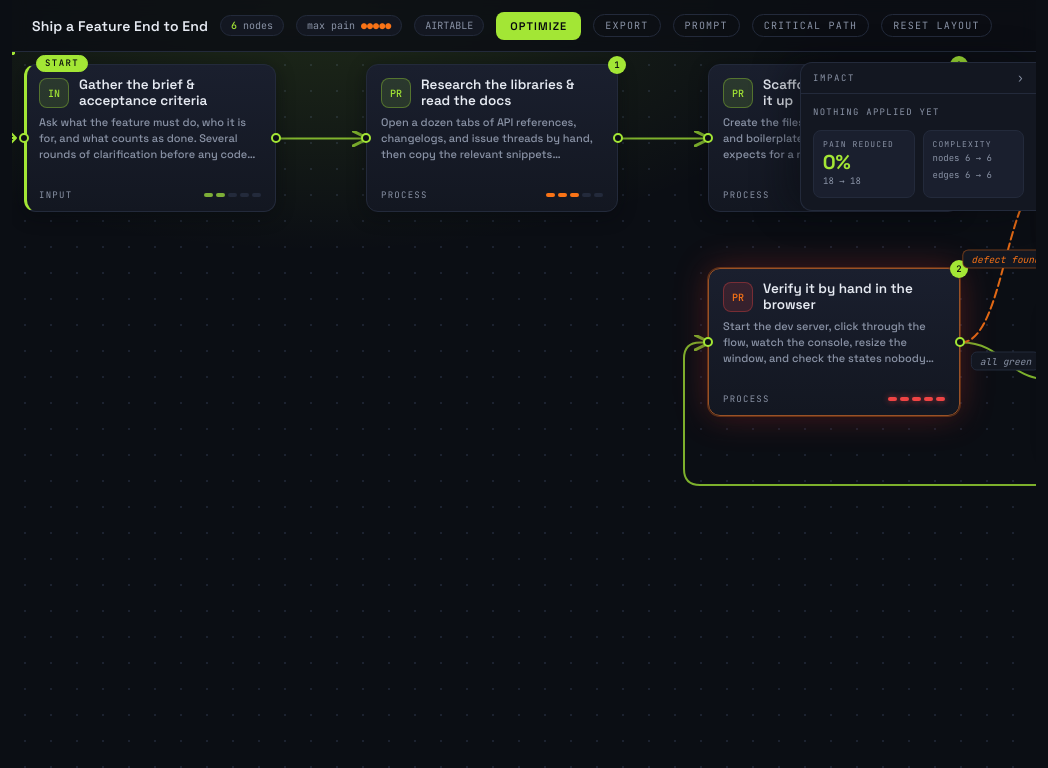
Scenario: drops the peek the moment the pointer leaves — no delay on the way out
This screenshot has width=1048, height=768.
Hover over the element with test id "sg-node" that starts with "Research the libraries & read the docs" at [492, 138], box [366,64,618,212]
Wait 150 ms
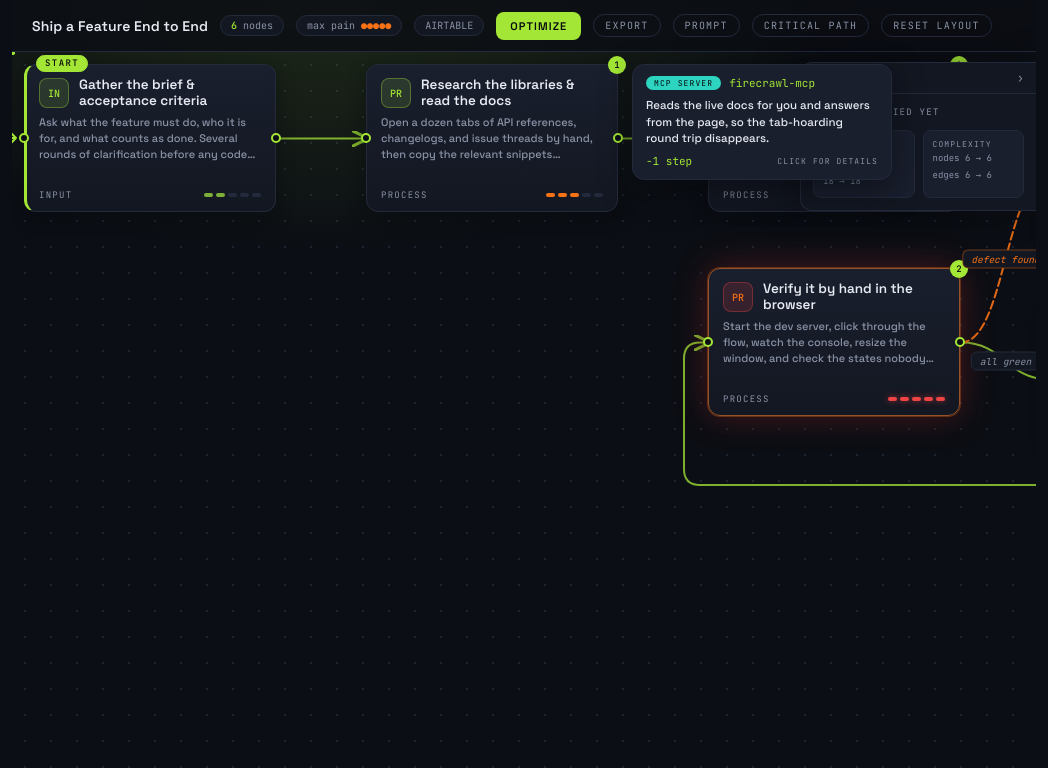
Expected: the element with test id "sg-peek" is shown, [632,64,892,180]
Move the pointer off the element with test id "sg-node" that starts with "Research the libraries & read the docs", box [366,64,618,212]
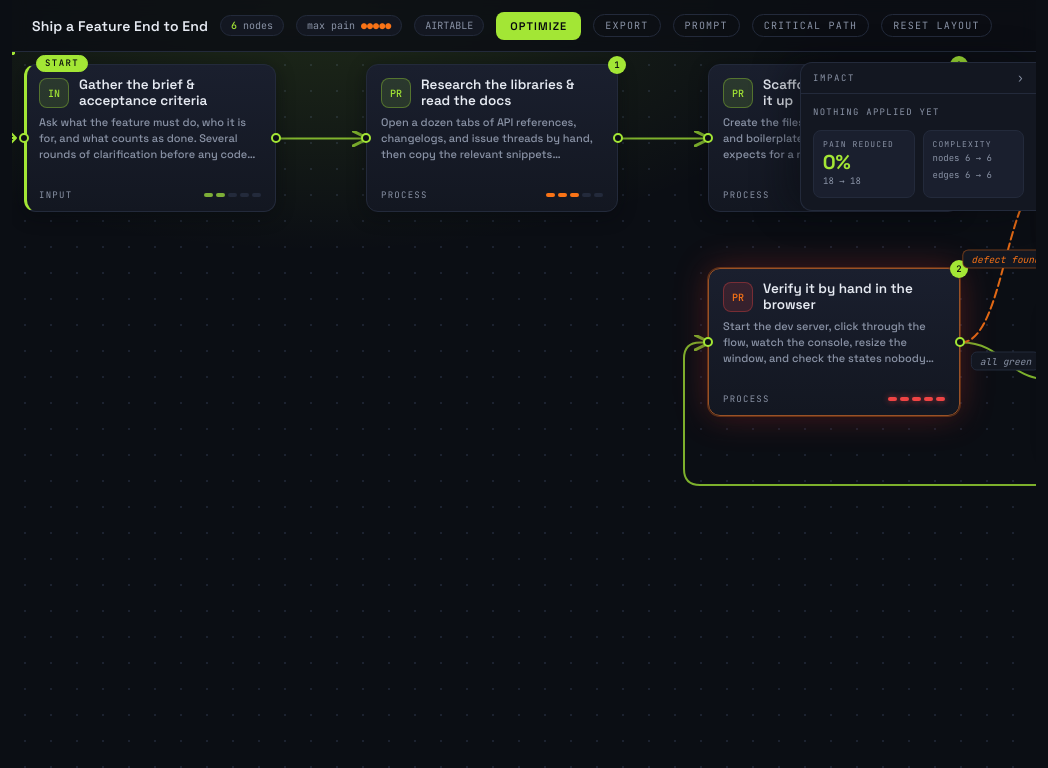
Expected: the element with test id "sg-peek" is gone
